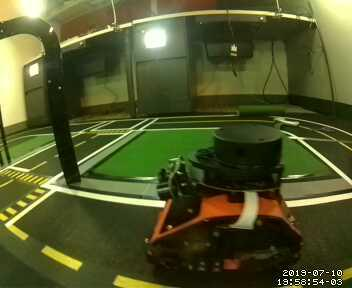pheeno: (144, 122, 309, 279)
